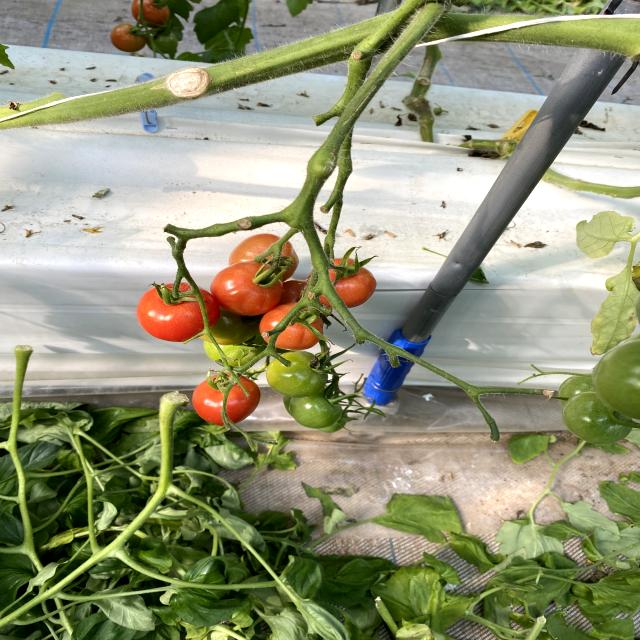ripe0: (266, 350, 328, 397), (288, 396, 343, 429)
ripe2: (137, 282, 219, 342), (210, 262, 284, 315), (191, 371, 261, 425), (333, 258, 377, 308)
